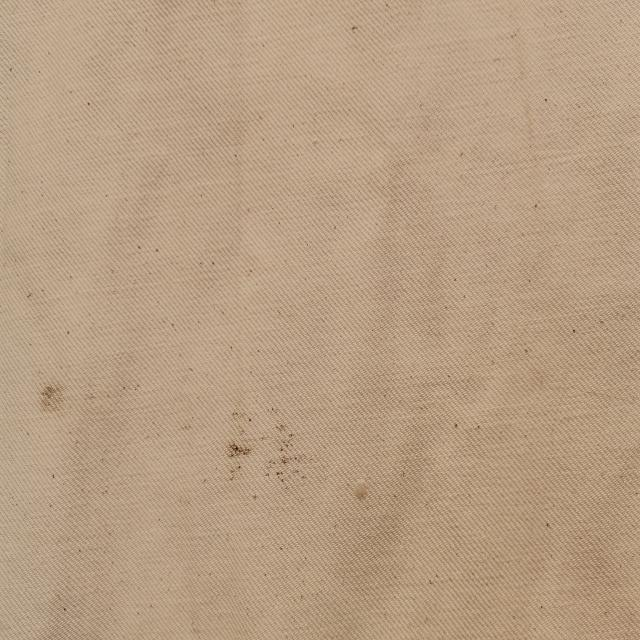taaaches: (259, 410, 304, 504), (220, 412, 251, 485), (34, 369, 65, 421)
